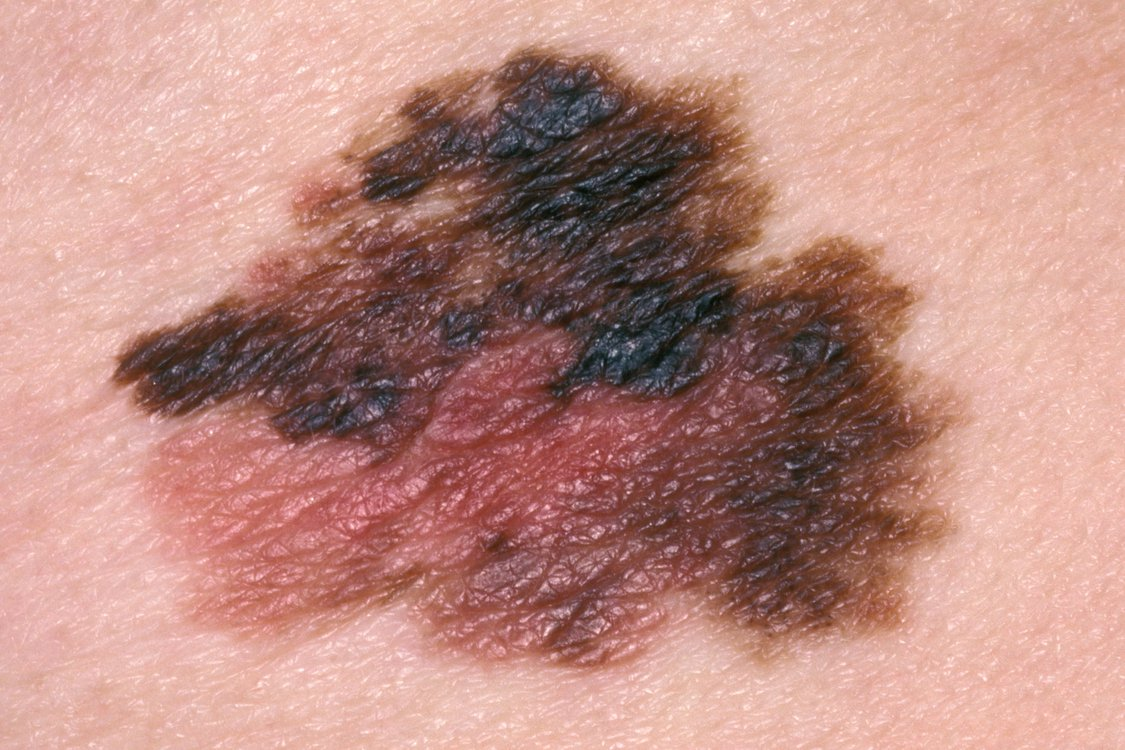melanoma: (109, 46, 979, 671)
